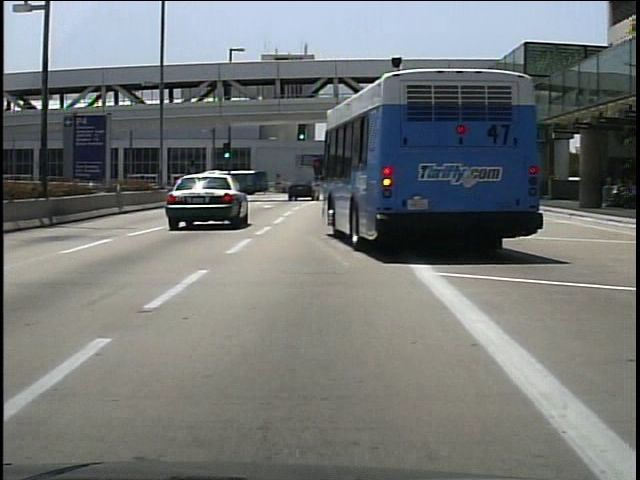person: (278, 177, 292, 196)
